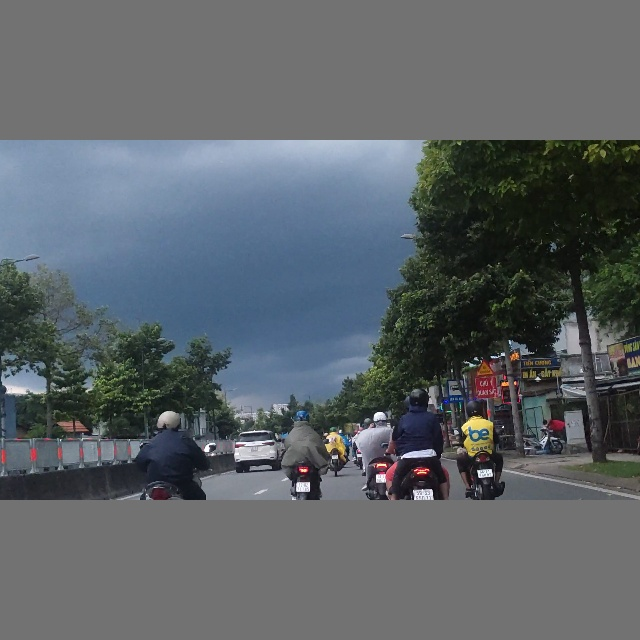I.434a: (446, 378, 467, 403)
W.245a: (475, 359, 496, 377)
